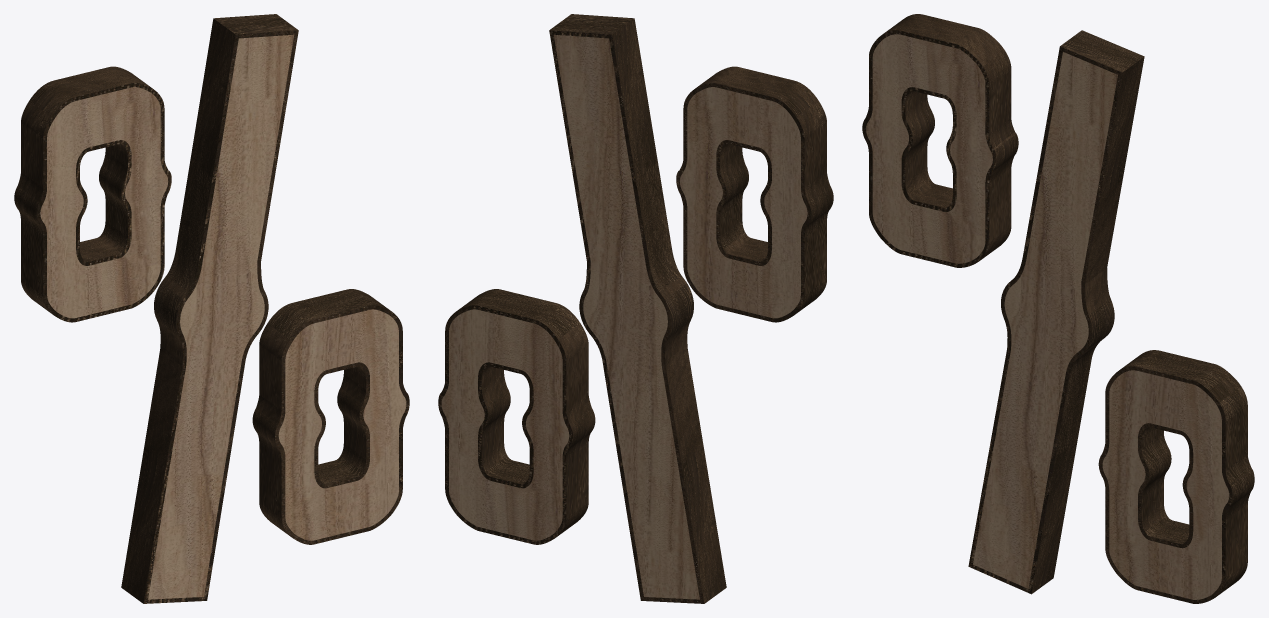
The model's file is Interest.FBX.
The picture shows the model from 3 angles, left to right: view 1: azimuth 30°, elevation 25°; view 2: azimuth 150°, elevation 25°; view 3: azimuth 330°, elevation 25°; orthographic projection.
Visible parts, largest first — view 1: Interest, Interest_outline; view 2: Interest, Interest_outline; view 3: Interest, Interest_outline.
Part boxes in pixels (left/top/right/bottom): Interest: left=40, top=34, right=406, bottom=599; Interest_outline: left=14, top=14, right=409, bottom=603; Interest: left=441, top=34, right=807, bottom=599; Interest_outline: left=438, top=14, right=833, bottom=603; Interest: left=866, top=34, right=1229, bottom=599; Interest_outline: left=862, top=14, right=1254, bottom=603.
Size of the model in its own units: 96.57 by 138 by 10.
Materials: 2 (2 with a texture image).
